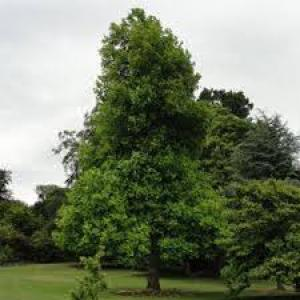Tree: (54, 4, 214, 291)
